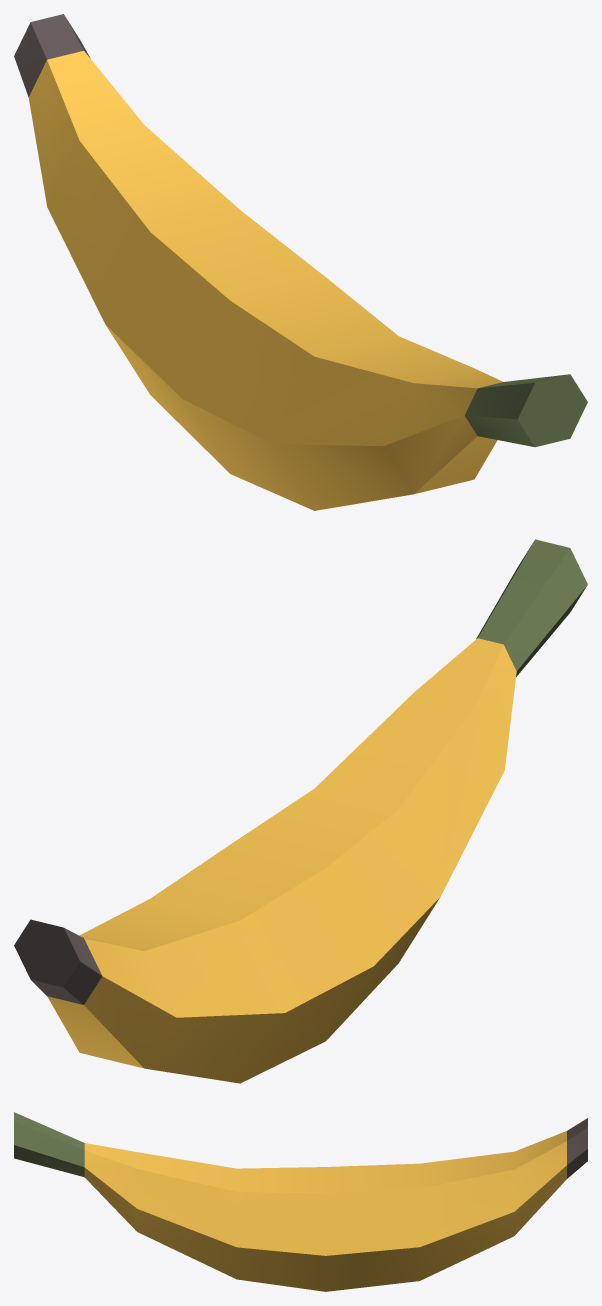
File: banana.fbx
The picture shows the model from 3 angles, top to bottom: view 1: azimuth 30°, elevation 25°; view 2: azimuth 150°, elevation 25°; view 3: azimuth 270°, elevation 25°; orthographic projection. The views are drawn at different scales.
Visible parts, largest first — view 1: banana; view 2: banana; view 3: banana.
Boxes of the visible parts, x1,y1,x2,y2 form: banana: (14,14,587,510); banana: (14,539,587,1083); banana: (14,1112,587,1291).
Bounding box in the file's own units: 0.1376 × 0.1958 × 0.6299.
